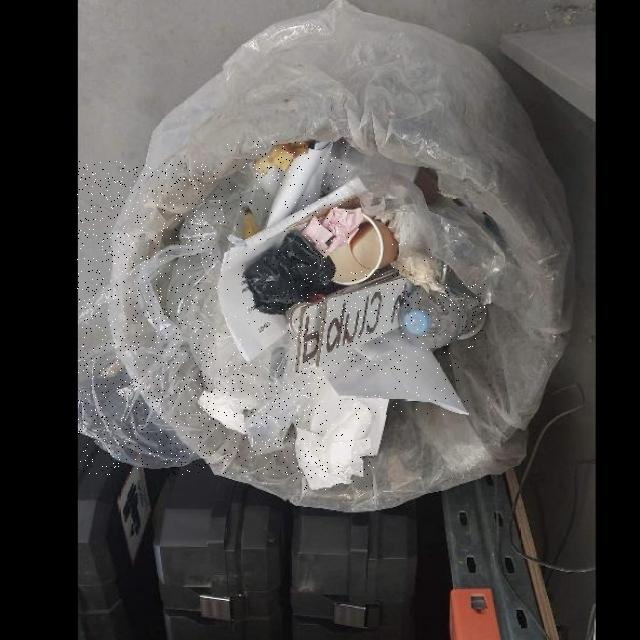biowaste: (253, 141, 307, 176)
metal: (286, 301, 312, 342)
paper: (320, 328, 468, 414), (227, 142, 349, 246), (295, 269, 408, 371), (217, 225, 289, 361), (294, 397, 374, 489), (390, 243, 445, 292)
plastic: (77, 161, 327, 474), (398, 283, 486, 348)
